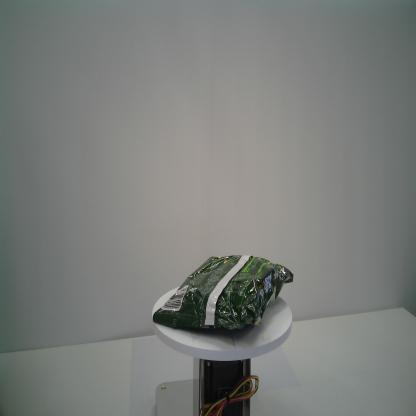Instant Noodles: (152, 252, 295, 336)
